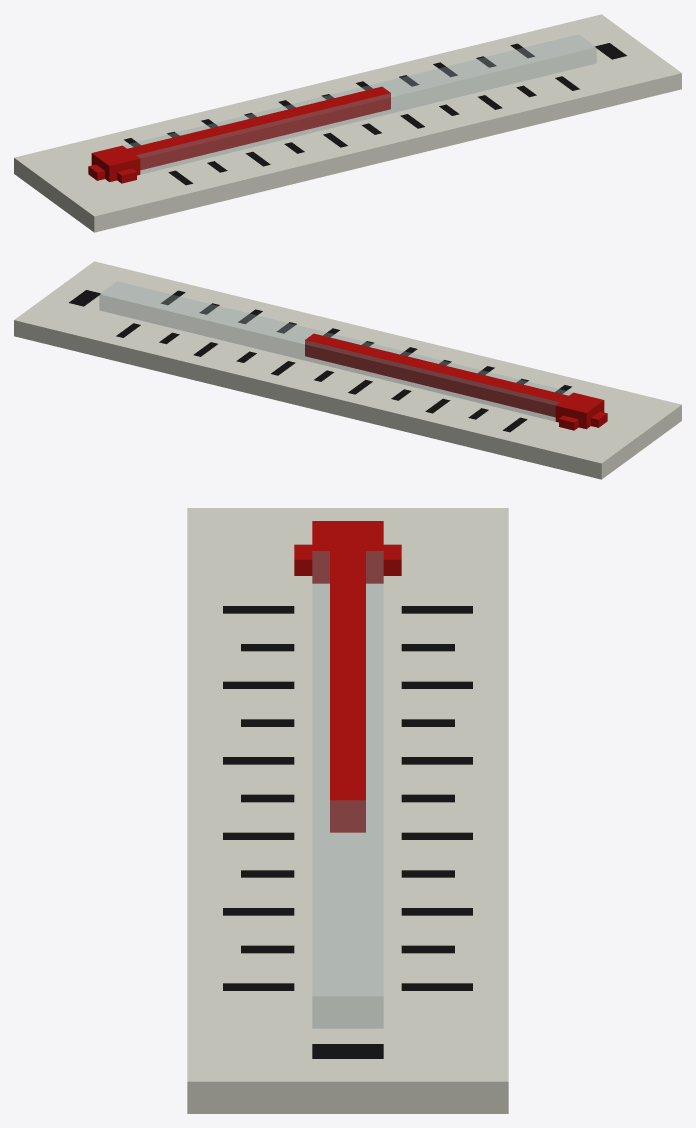
File: thermometer.glb
3 renders of one model, top to bottom at view 1: azimuth 30°, elevation 25°; view 2: azimuth 150°, elevation 25°; view 3: azimuth 270°, elevation 25°, orthographic. The views are drawn at different scales.
Visible parts, largest first — view 1: thermometer:compound; view 2: thermometer:compound; view 3: thermometer:compound.
Part boxes in pixels (x1,y1,x2,y2): thermometer:compound: (14, 14, 681, 232); thermometer:compound: (14, 261, 681, 479); thermometer:compound: (187, 508, 508, 1113).
Bounding box in the file's own units: 0.152 × 0.008 × 0.036.
